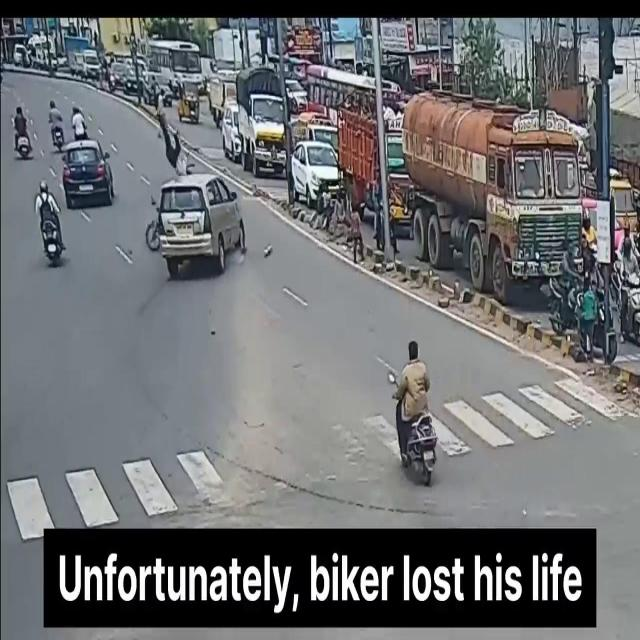accident: (129, 117, 259, 286)
non_accident: (397, 85, 640, 363), (2, 10, 206, 119), (289, 61, 397, 250), (206, 55, 286, 181)
